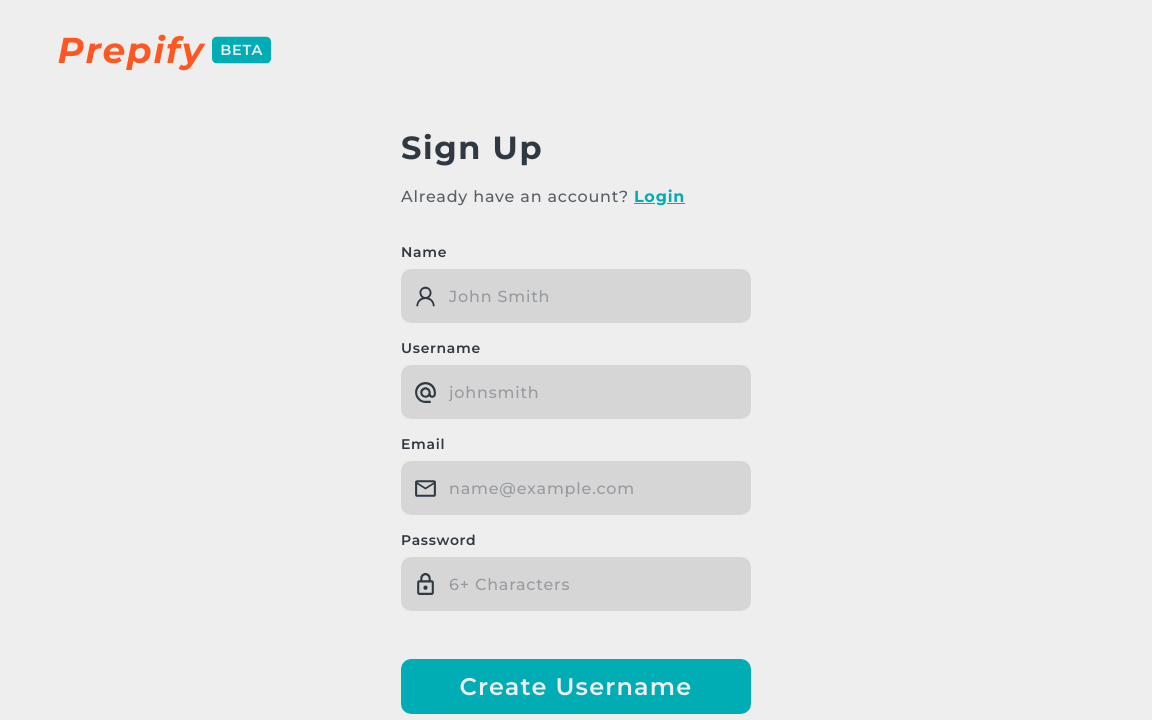
Test: Login/Logout Process › All links should work
This screenshot has width=1152, height=720.
Home page
Click the link "Prepify": (132, 50) [52,24,211,76]
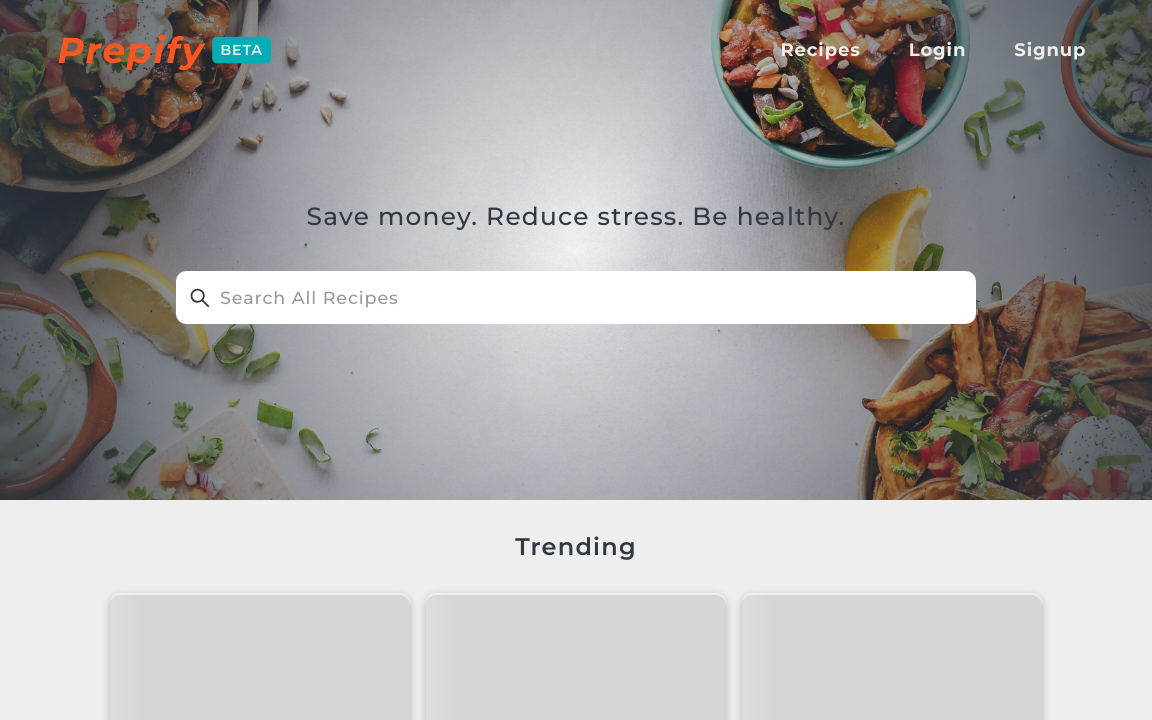
Expected: the link "recipes" is shown, [780,39,861,61]
Open "/signup"
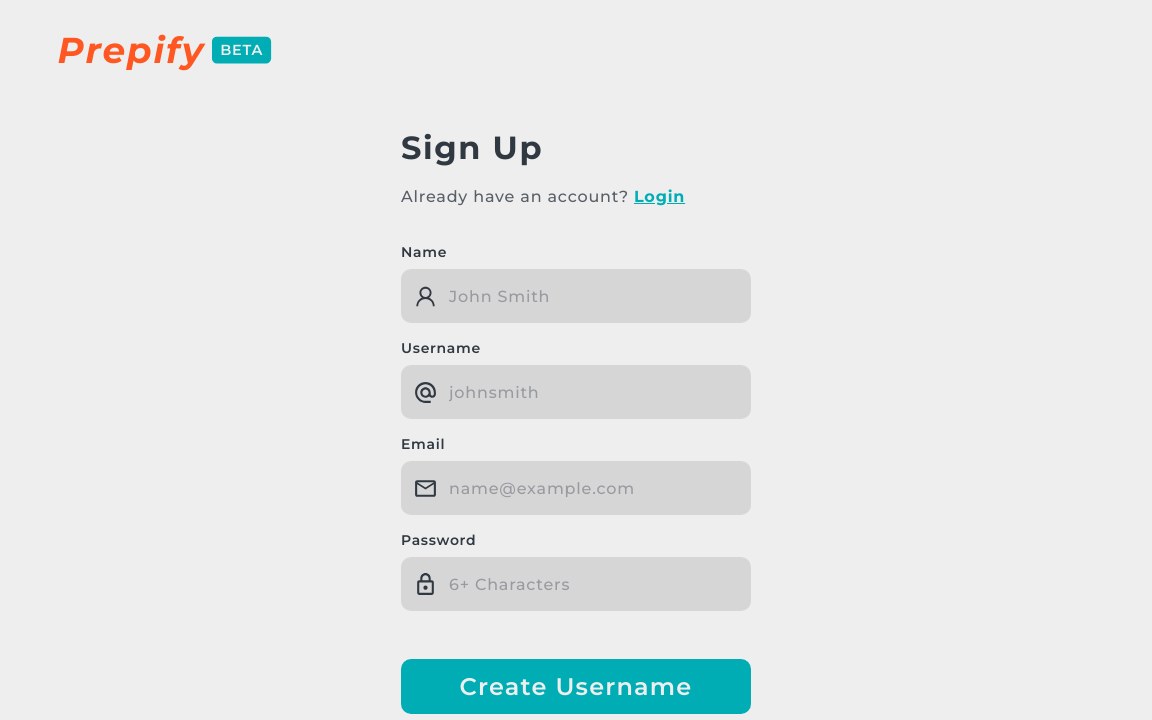
Login Page
Click the link "Login": (660, 197) [634,187,685,206]
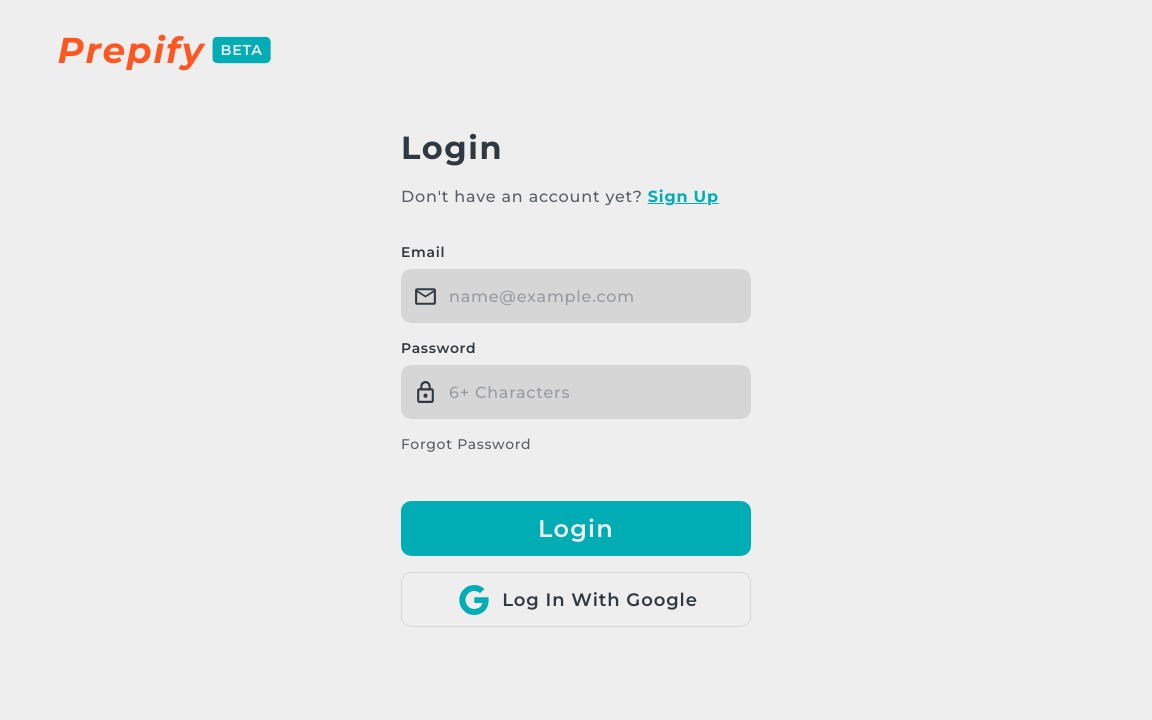
Expected: the heading "Login" is shown, [401,128,503,167]
